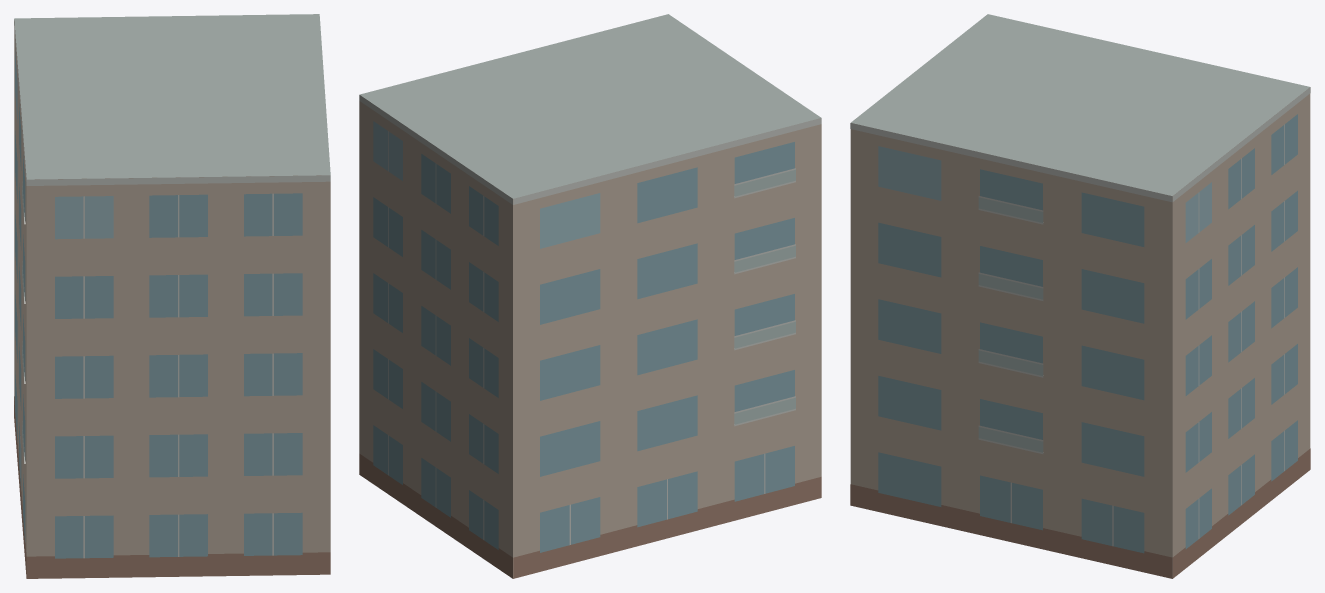
Rendered from survey-upis-32926039.glb.
3 renders of one model, left to right at view 1: azimuth 30°, elevation 25°; view 2: azimuth 150°, elevation 25°; view 3: azimuth 270°, elevation 25°, orthographic. The views are drawn at different scales.
Parts seen in each view (by area): view 1: survey-upis-32926039.tmp; view 2: survey-upis-32926039.tmp; view 3: survey-upis-32926039.tmp.
Part boxes in pixels (box(x1,y1,x2,y2)): survey-upis-32926039.tmp: box(14, 14, 330, 578); survey-upis-32926039.tmp: box(359, 14, 821, 578); survey-upis-32926039.tmp: box(850, 14, 1310, 578).
Bounding box in the file's own units: 15.32 × 15 × 16.34.
